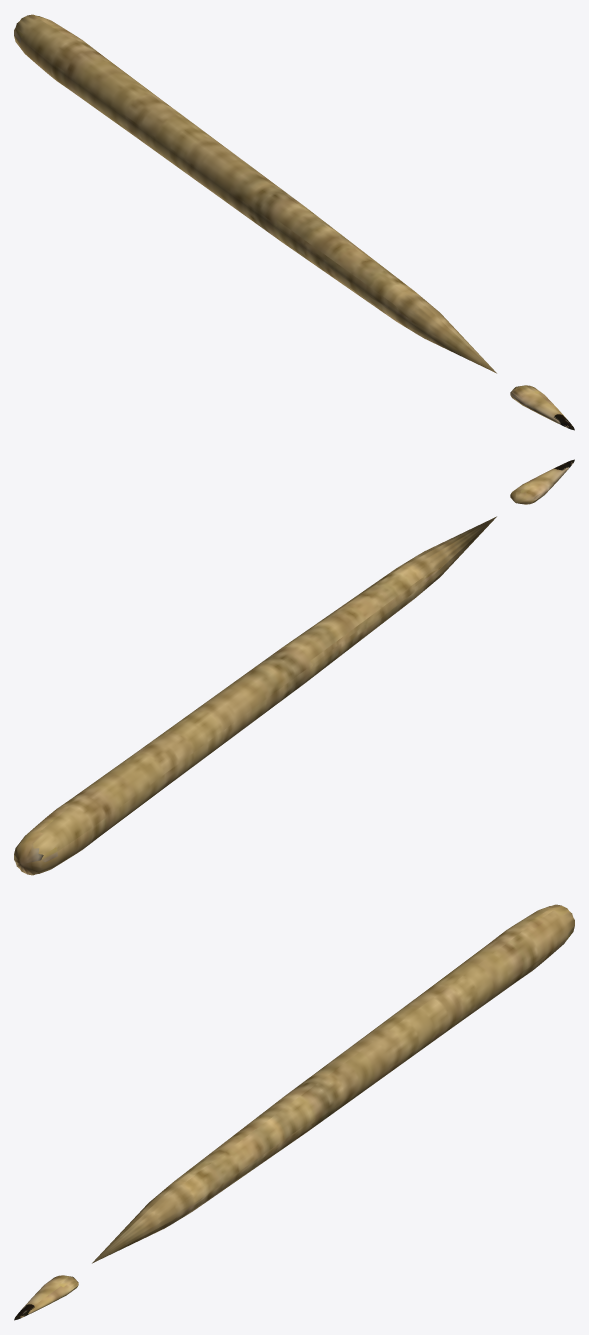
File: reed_pen.glb
3 views of the same model, one above another, from view 1: azimuth 30°, elevation 25°; view 2: azimuth 150°, elevation 25°; view 3: azimuth 330°, elevation 25° (orthographic).
Parts seen in each view (by area): view 1: reed_pen; view 2: reed_pen; view 3: reed_pen.
Part boxes in pixels (x1,y1,x2,y2): reed_pen: (14, 14, 574, 430); reed_pen: (14, 459, 574, 875); reed_pen: (14, 904, 574, 1320).
Size of the model in its own units: 0.00786 by 0.00786 by 0.1793.
1 material, 1 textured.
